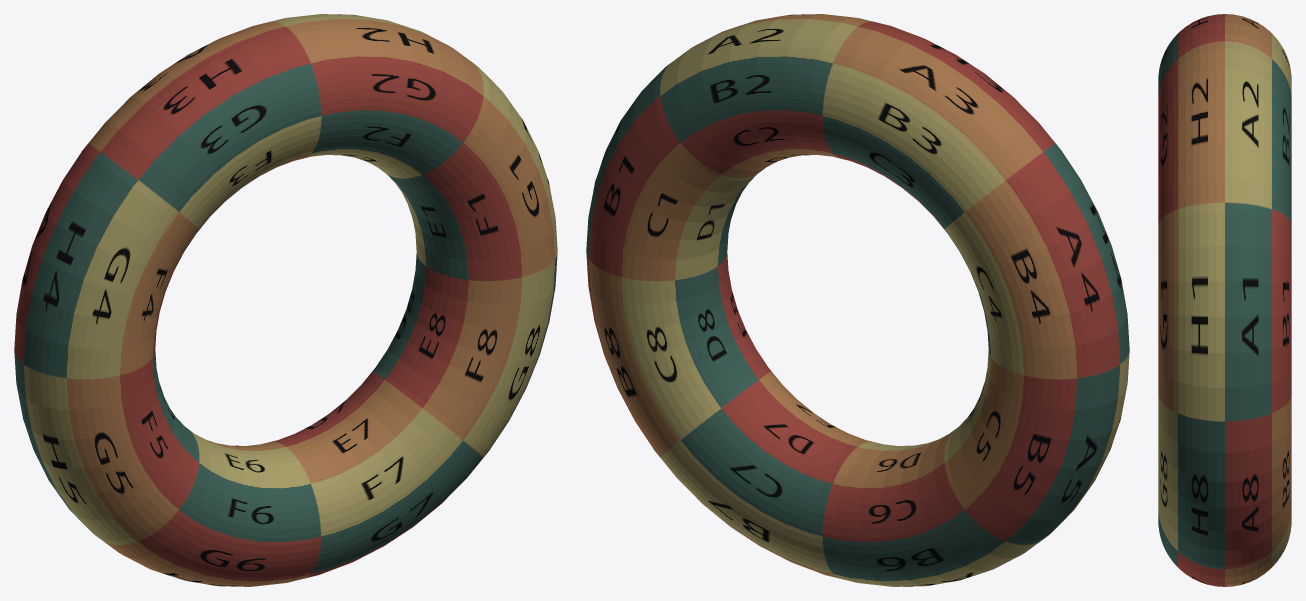
Rendered from texture_torus_R12_r13.glb.
3 renders of one model, left to right at view 1: azimuth 30°, elevation 25°; view 2: azimuth 150°, elevation 25°; view 3: azimuth 270°, elevation 25°, orthographic. The views are drawn at different scales.
Visible parts, largest first — view 1: world; view 2: world; view 3: world.
Boxes of the visible parts, x1=… form: world: x1=14, y1=14, x2=557, y2=586; world: x1=586, y1=14, x2=1129, y2=586; world: x1=1158, y1=14, x2=1291, y2=586.
Size of the model in its own units: 23.47 by 23.42 by 5.46.
Materials: 1 (1 with a texture image).
